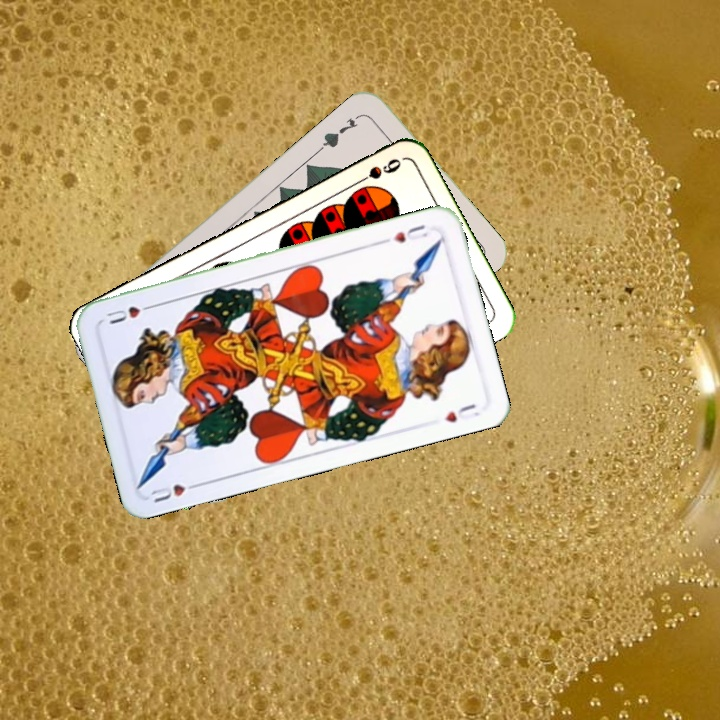G7: (315, 110, 365, 153)
HU: (145, 478, 204, 505), (390, 220, 431, 246)
S9: (349, 154, 404, 189)
